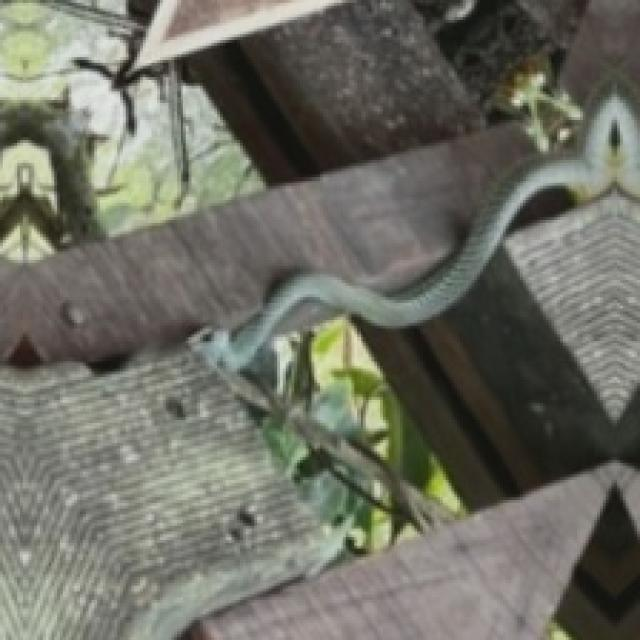paradise tree snake: (197, 94, 637, 369)
